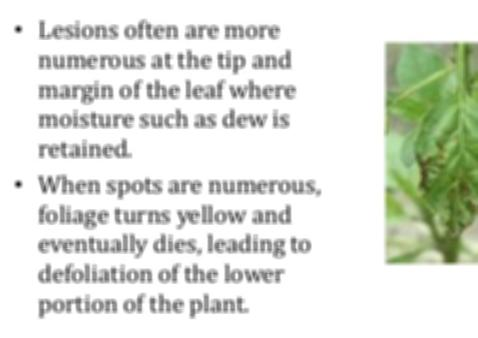Tomato leaf bacterial spot: (414, 91, 478, 248)
